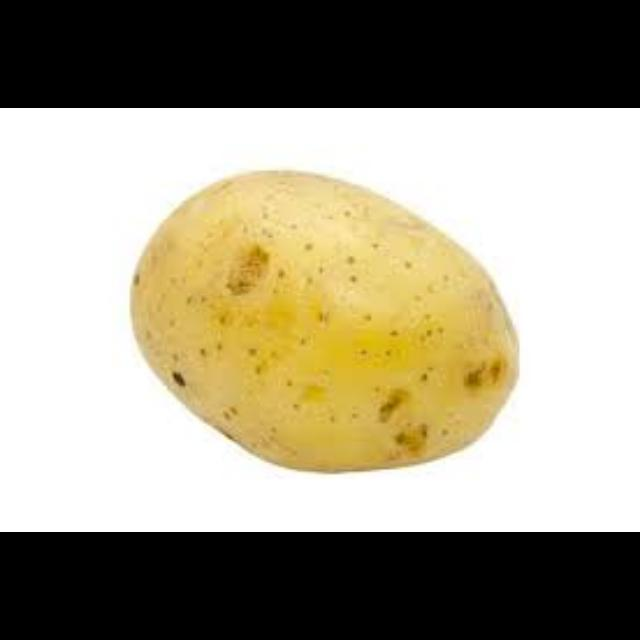Potato: (106, 154, 540, 493)
